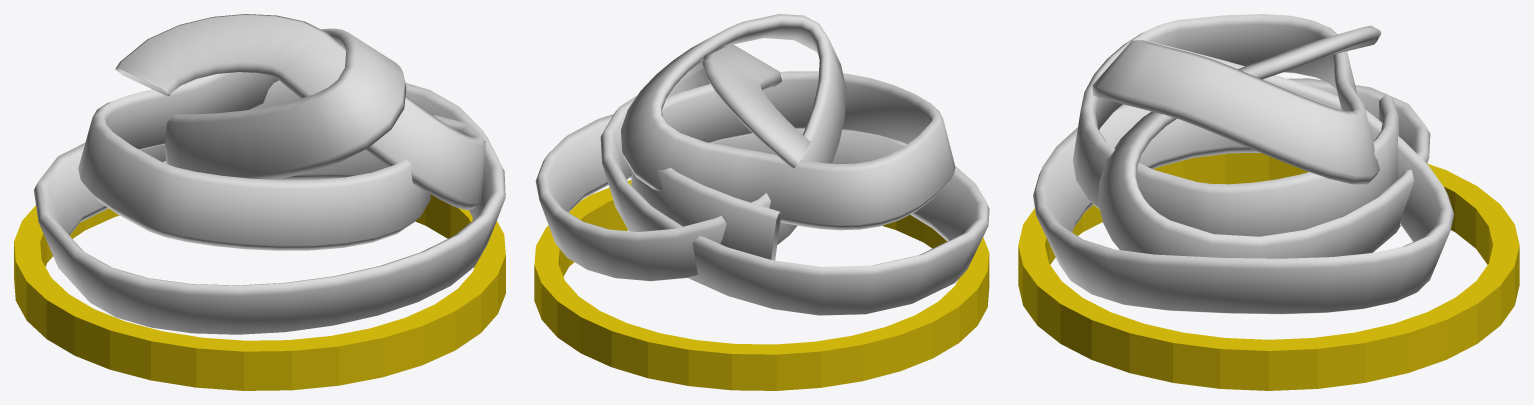
The model's file is h_animated.fbx.
The picture shows the model from 3 angles, left to right: view 1: azimuth 30°, elevation 25°; view 2: azimuth 150°, elevation 25°; view 3: azimuth 270°, elevation 25°; orthographic projection. The views are drawn at different scales.
Parts seen in each view (by area): view 1: BezierCurve, Cylinder; view 2: BezierCurve, Cylinder; view 3: BezierCurve, Cylinder.
Part boxes in pixels (left/top/right/bottom): BezierCurve: left=33, top=14, right=505, bottom=334; Cylinder: left=14, top=194, right=505, bottom=390; BezierCurve: left=535, top=14, right=989, bottom=315; Cylinder: left=534, top=180, right=989, bottom=390; BezierCurve: left=1033, top=14, right=1454, bottom=314; Cylinder: left=1018, top=153, right=1519, bottom=390.
Bounding box in the file's own units: 67.43 × 38.24 × 67.43.
